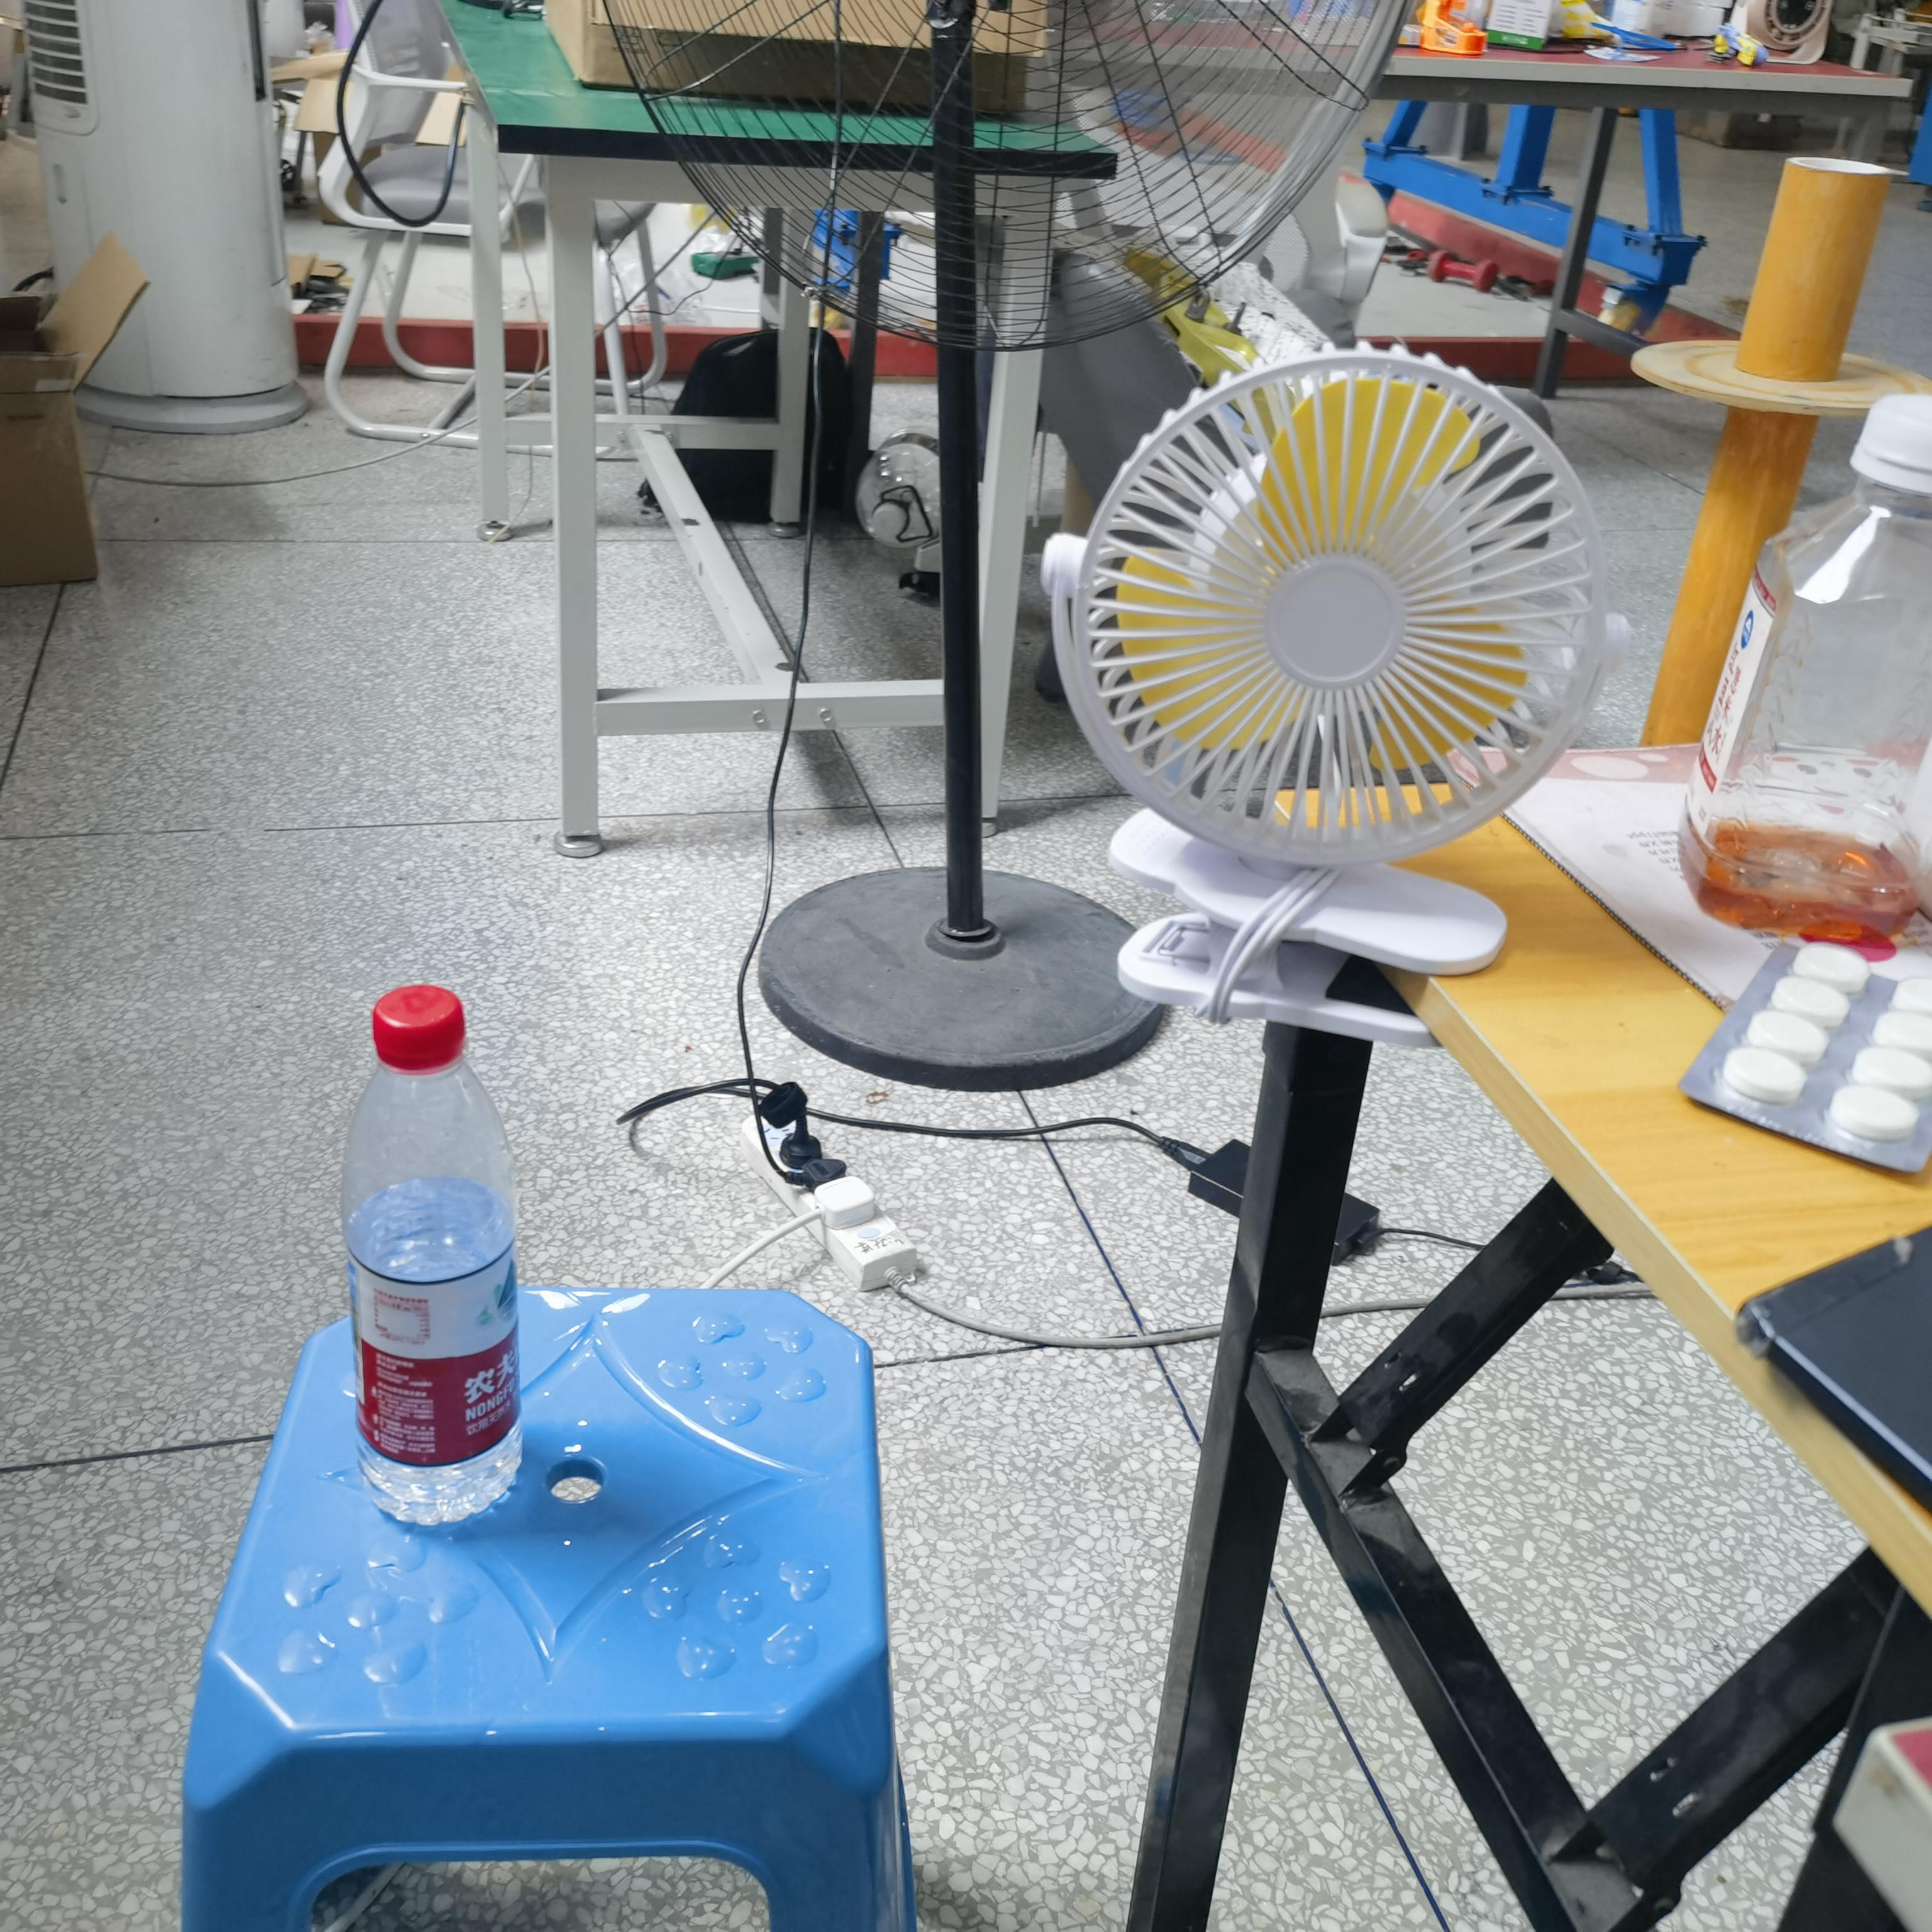bottle: (341, 985, 522, 1527)
fan: (1044, 345, 1626, 1046)
